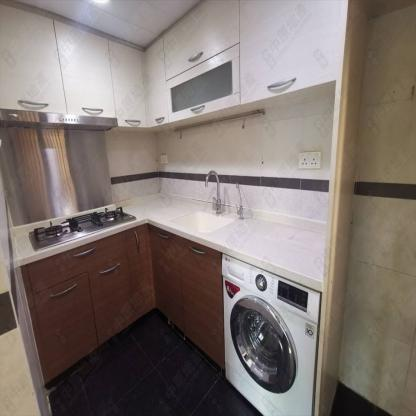Cupboard: (0, 1, 341, 125), (21, 222, 226, 384)
Exhaust Hood: (0, 108, 118, 131)
Faucet: (204, 169, 224, 214)
Sink: (171, 209, 234, 234)
Stove: (29, 206, 137, 251)
Washing Machine: (221, 254, 321, 415)
